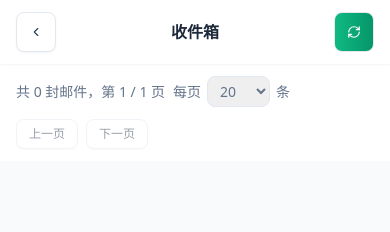
Test: MailListPage › 点击刷新触发增量同步并重新加载
The width and height of the screenshot is (390, 232).
Click the button named "收取邮件" at coordinates (354, 32), box [334, 12, 374, 52]
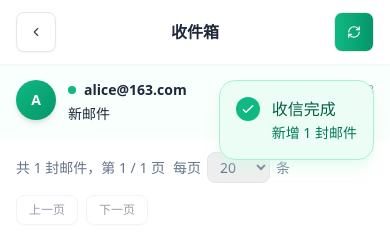
Expected: the text "新邮件" is shown 2 times
